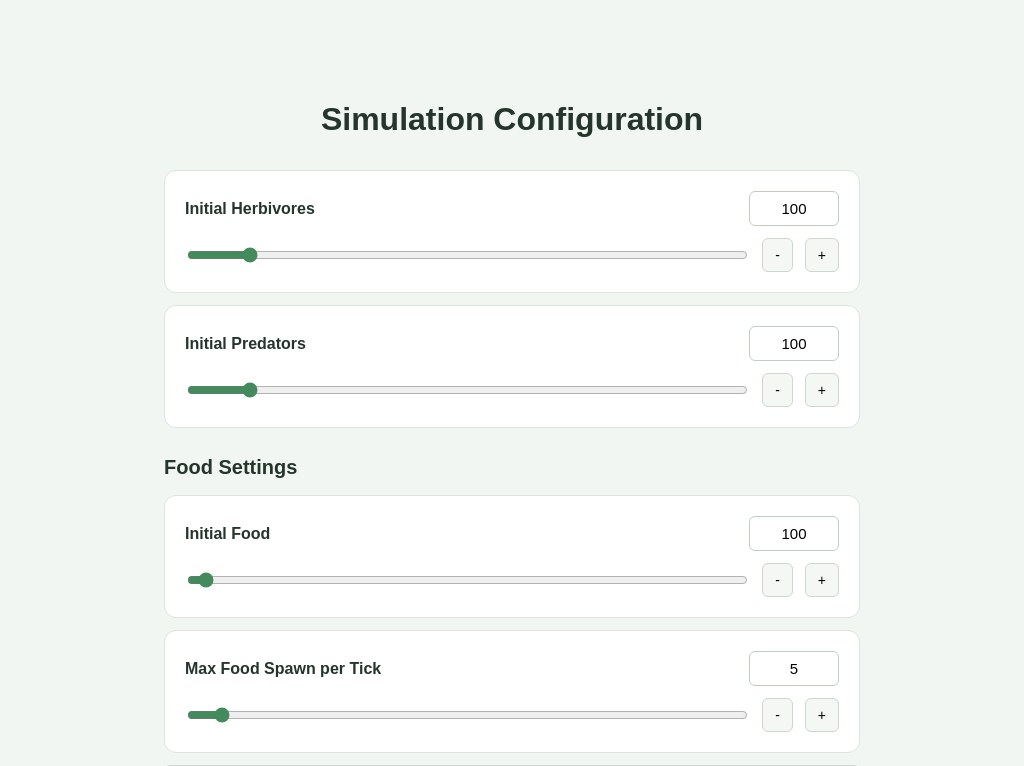
it: ConfigurationPage › shows errors for multiple empty fields
Clear the field labelled "Initial Herbivores" at (794, 209), box x1=749 y1=191 x2=839 y2=226
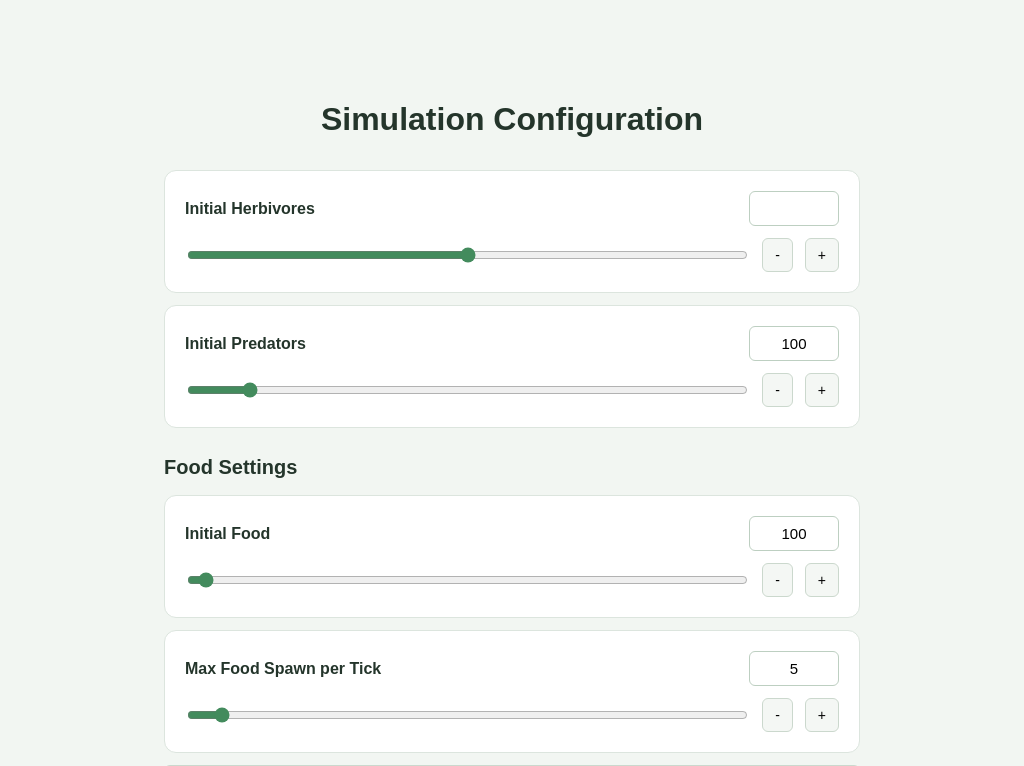
Clear the field labelled "Initial Predators" at (794, 344), box x1=749 y1=326 x2=839 y2=361
(page scrolled)
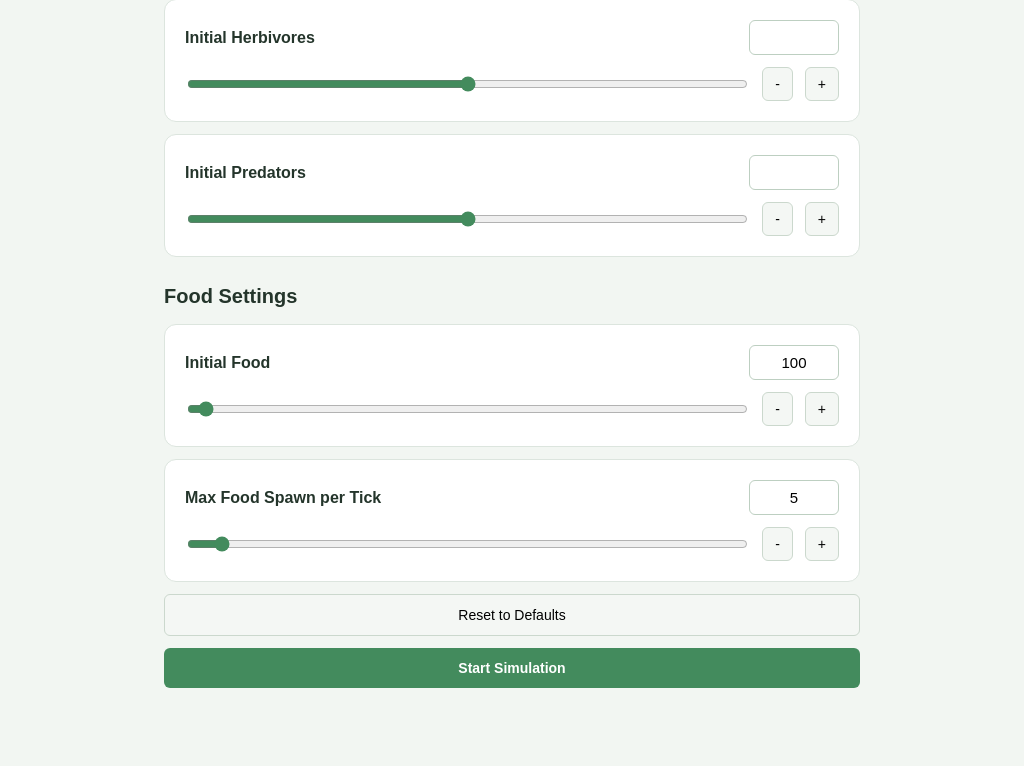
Click the button "Start Simulation" at (512, 668), box x1=164 y1=648 x2=860 y2=688
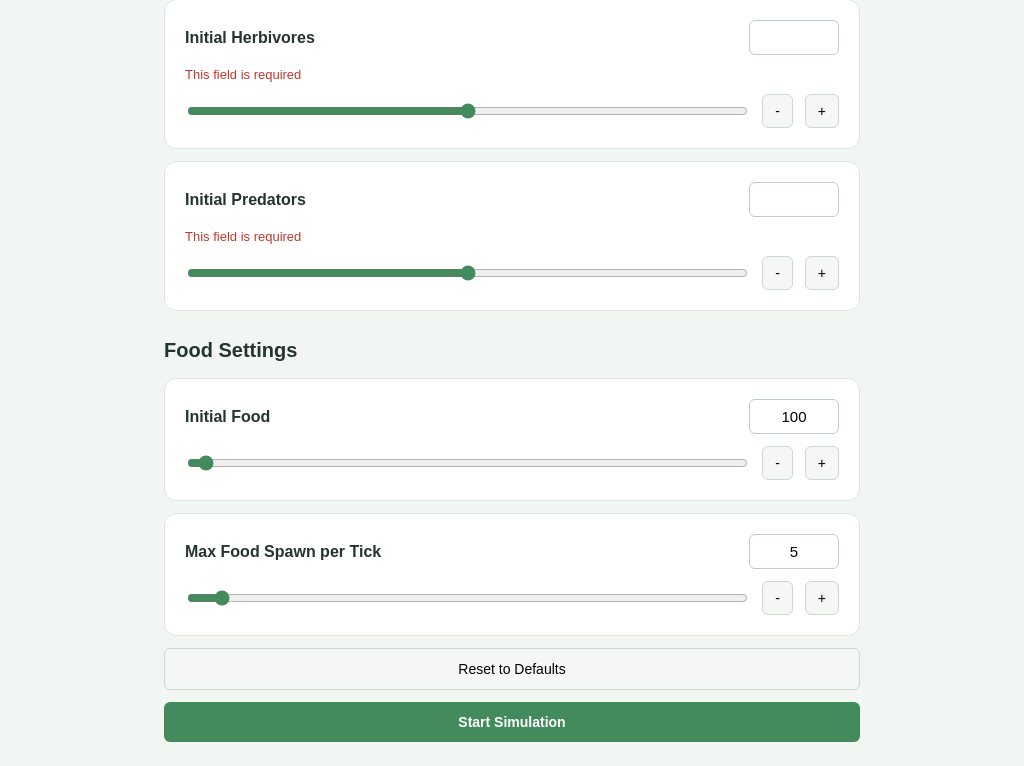
Expected: the number of messages is 2, x1=185 y1=67 x2=301 y2=82; x1=185 y1=229 x2=301 y2=244
Expected: the message "This field is required" below "Initial Herbivores" is shown, x1=185 y1=67 x2=301 y2=82
Expected: the message "This field is required" below "Initial Predators" is shown, x1=185 y1=229 x2=301 y2=244
